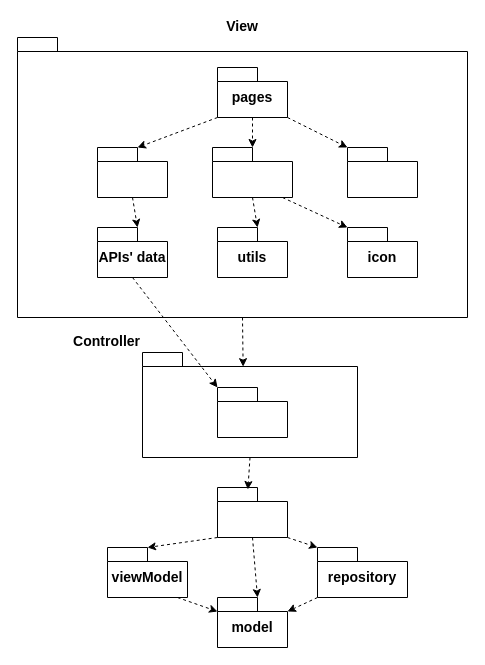
The diagram is 485 pixels wide and 665 high, and some of its shapes have lost their labels. The shapes that lost their labels are listed below. From the top down, each one's centre as x and y in pixels, then its label:
pixel 132 172: hooks
pixel 252 172: component
pixel 382 172: styles
pixel 252 412: APIs
pixel 252 512: service
